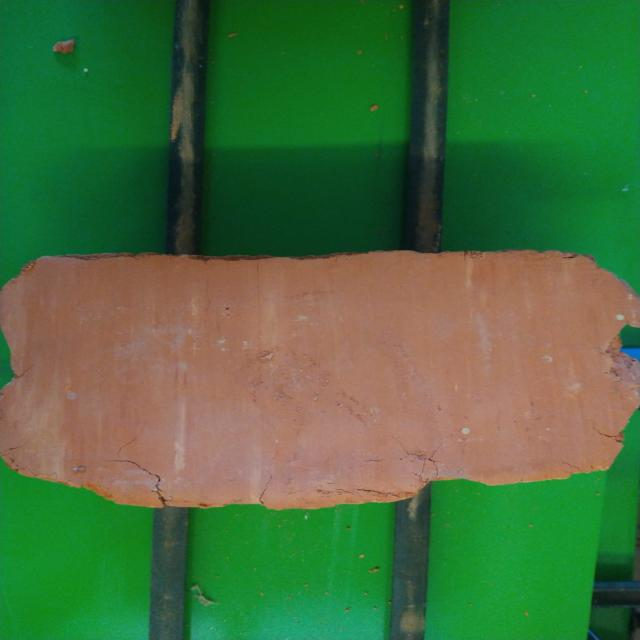bricks_ruin: (0, 250, 640, 509)
